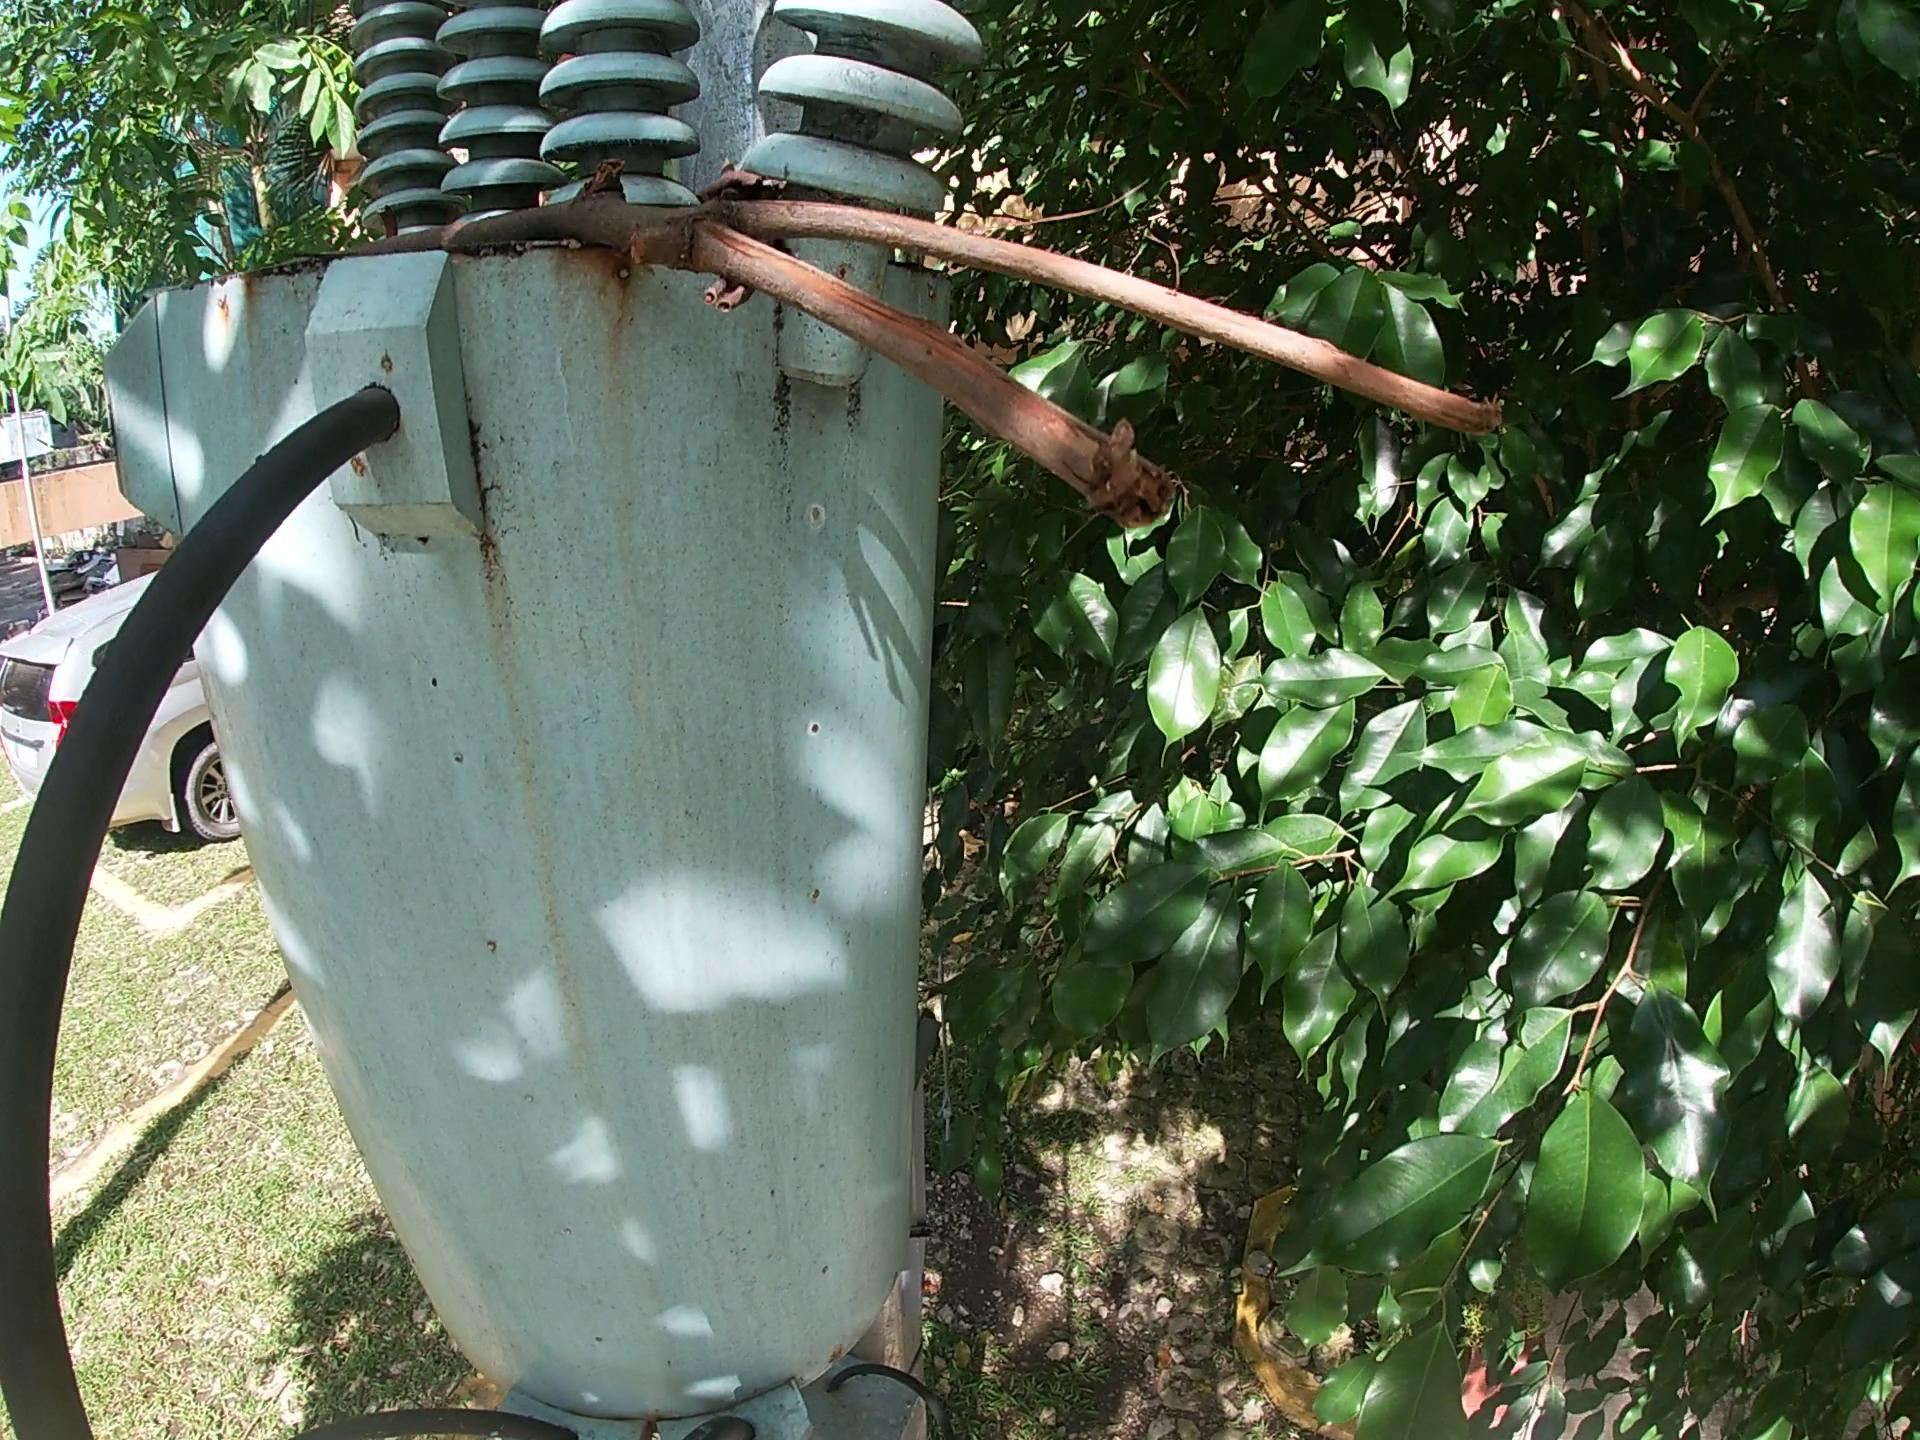tree branch: (319, 142, 1519, 545)
